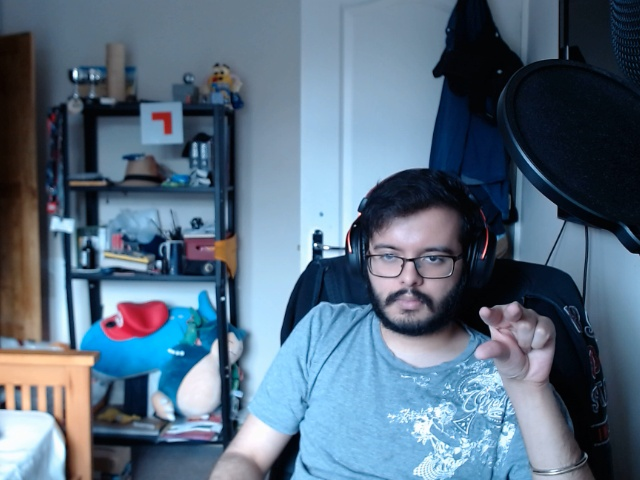No: (465, 287, 570, 392)
